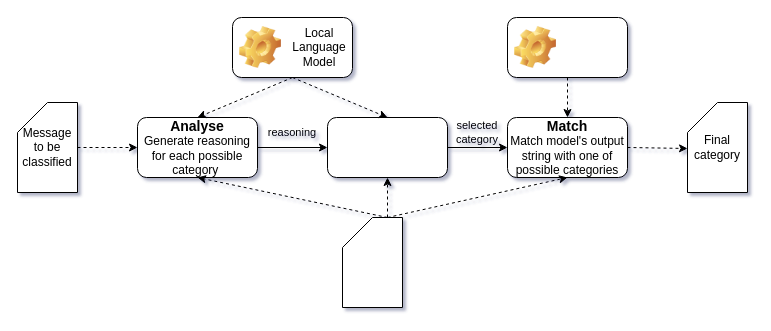
Some shapes in this 771 by 331 pixel diagram are drawn without their labels. Here are the shapes that lost their labels. From the top down, the box of each, then its label:
(506, 16, 628, 78): Gestalt Pattern Matching Algorithm
(326, 116, 448, 178): Select Select one of possible categories as final classification
(342, 216, 402, 308): List of possible categories
